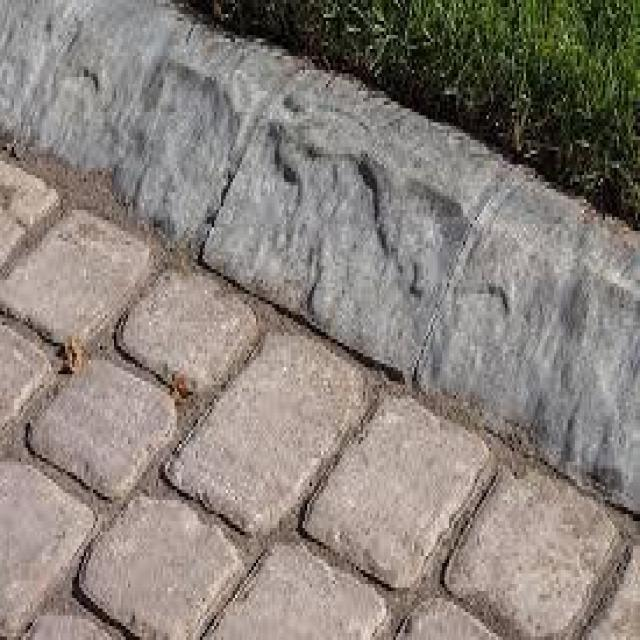curb: (1, 1, 640, 513)
